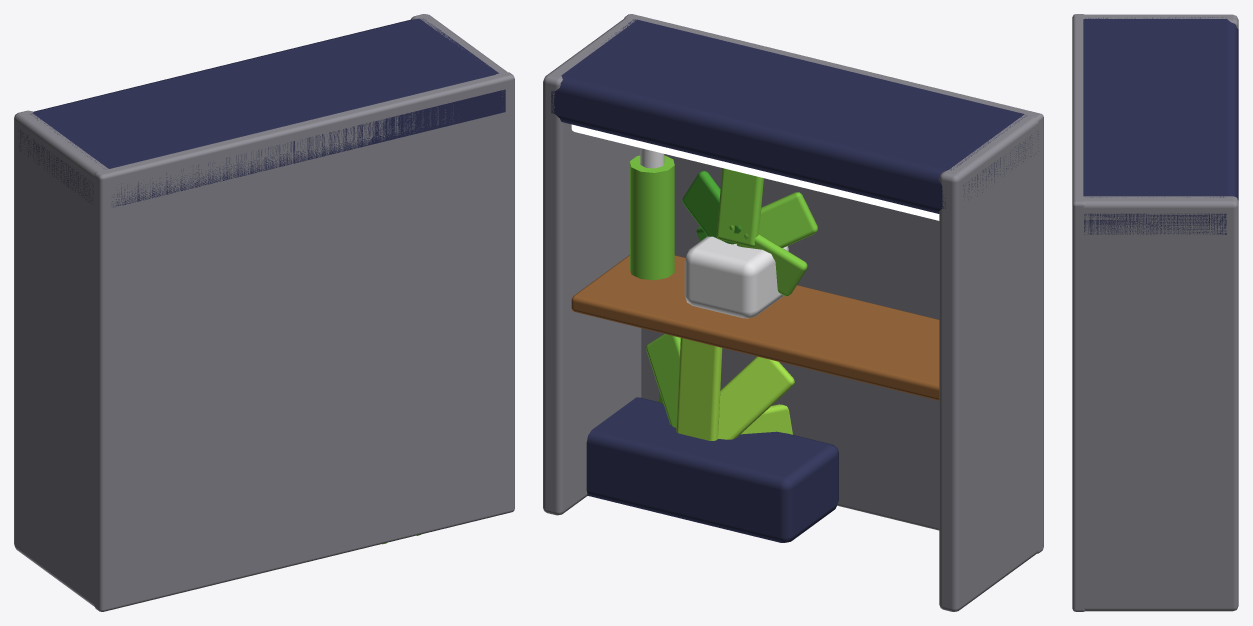
The model's file is prop.props_walls.walls_lounge_alcove.glb.
3 renders of one model, left to right at view 1: azimuth 30°, elevation 25°; view 2: azimuth 150°, elevation 25°; view 3: azimuth 270°, elevation 25°, orthographic. The views are drawn at different scales.
Visible parts, largest first — view 1: prop.props_walls.walls_lounge_alcove; view 2: prop.props_walls.walls_lounge_alcove; view 3: prop.props_walls.walls_lounge_alcove.
Boxes of the visible parts, x1,y1,x2,y2 form: prop.props_walls.walls_lounge_alcove: (14,14,514,611); prop.props_walls.walls_lounge_alcove: (543,14,1043,611); prop.props_walls.walls_lounge_alcove: (1072,14,1238,611).
Bounding box in the file's own units: 0.46 × 0.4733 × 0.17.
